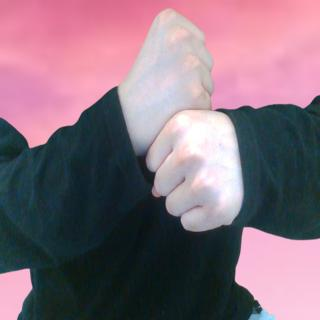CAREFUL: (117, 2, 244, 231)
